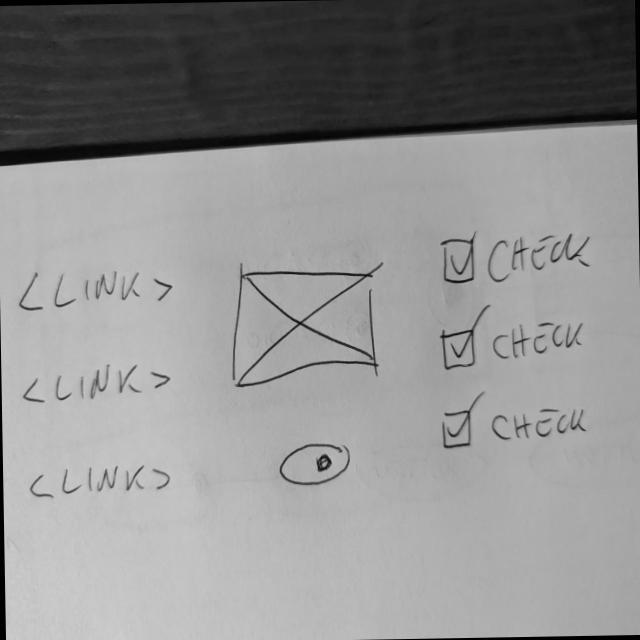checkbox: (439, 227, 596, 288), (440, 315, 589, 375), (440, 403, 591, 453)
image: (227, 263, 380, 395)
link: (20, 359, 174, 412), (15, 266, 175, 316), (29, 462, 175, 504)
toggle: (278, 438, 355, 489)
